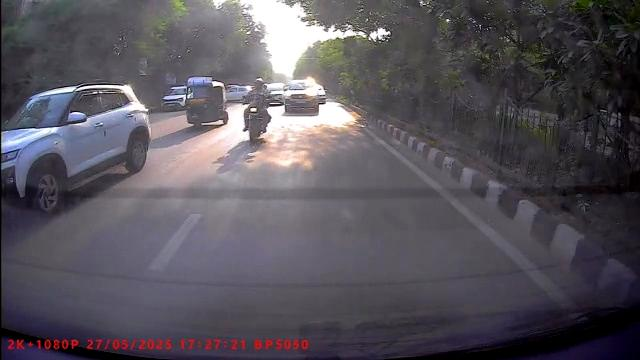motorcycle_with_helmet: (243, 77, 272, 142)
